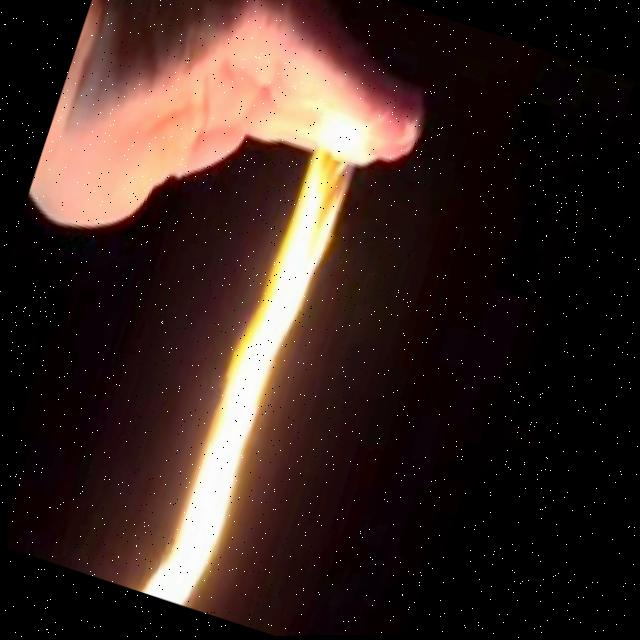Fire: (119, 91, 394, 622)
